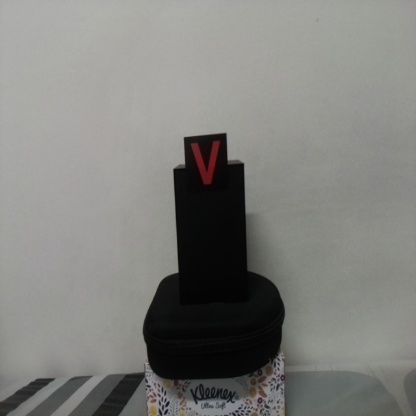id_11: (183, 136, 229, 196)
